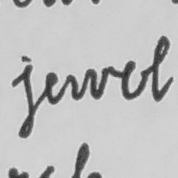e: (117, 58, 140, 101), (41, 69, 60, 106)
j: (9, 62, 38, 141)
l: (148, 33, 175, 103)
w: (68, 64, 110, 102)
